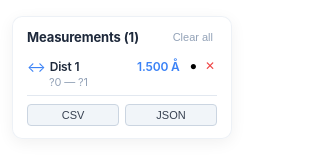
Test case: MeasurementListPanel › toggles visibility on ● click
The image size is (320, 160).
What coordinates should you click on to do the following:
click the button with test id "measurement-toggle-visibility"
I would click on:
 (193, 66)
Its box is [188, 57, 199, 75].
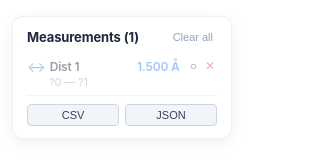
Result: the button with test id "measurement-toggle-visibility" reads "○" at [188, 57, 199, 75]
